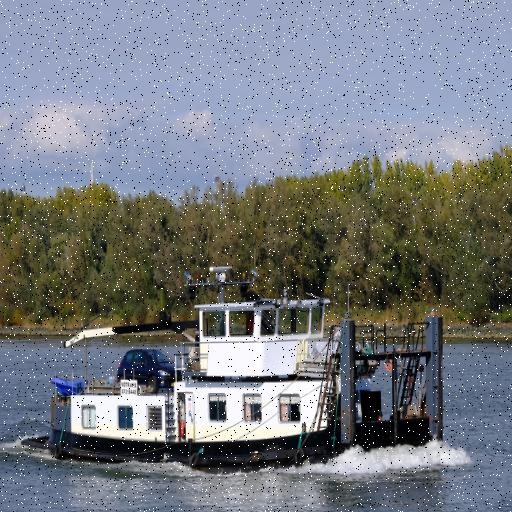tugboat: (20, 262, 447, 480)
